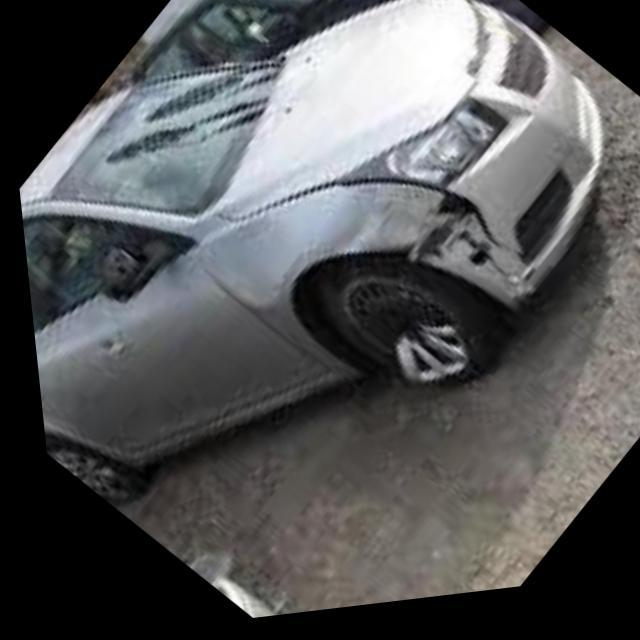dislocated part: (212, 173, 531, 323)
